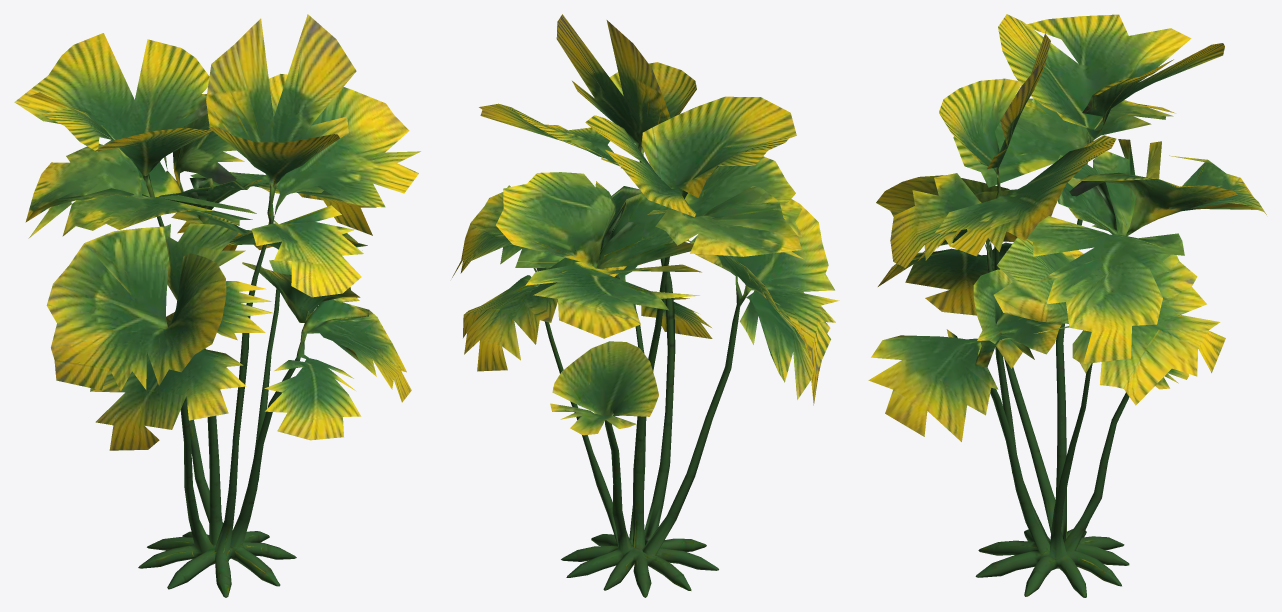
Rendered from tree_palm3_hi.glb.
3 views of the same model, side by side, from view 1: azimuth 30°, elevation 25°; view 2: azimuth 150°, elevation 25°; view 3: azimuth 270°, elevation 25° (orthographic). The views are drawn at different scales.
Size of the model in its own units: 0.6543 by 0.9502 by 0.6167.
1 material, 1 textured.
